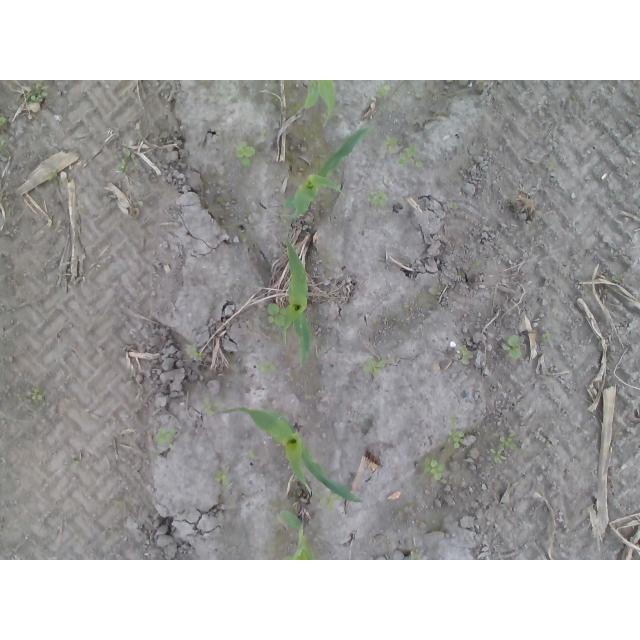Maize: (212, 405, 364, 504), (282, 123, 370, 222), (281, 233, 313, 367), (277, 505, 316, 560), (304, 80, 337, 126)
Weeds: (385, 135, 424, 168), (115, 149, 140, 176), (235, 143, 258, 169), (153, 426, 175, 450), (424, 455, 445, 479), (362, 358, 385, 379), (317, 491, 338, 514), (506, 331, 522, 361), (266, 302, 285, 327), (366, 188, 389, 208), (23, 83, 50, 100), (374, 82, 400, 99), (1, 189, 16, 218), (500, 430, 520, 451), (447, 429, 466, 449), (458, 344, 474, 365), (212, 471, 230, 489), (488, 448, 505, 465), (65, 455, 82, 472), (301, 125, 320, 140), (191, 347, 206, 364), (203, 399, 216, 417), (31, 385, 45, 401), (611, 272, 626, 284), (46, 170, 58, 185), (408, 548, 421, 561), (541, 328, 552, 342), (256, 363, 272, 372), (133, 199, 146, 210), (2, 229, 17, 238), (246, 450, 259, 460), (0, 115, 8, 130), (546, 159, 555, 170), (446, 202, 458, 210), (575, 279, 583, 289), (0, 138, 8, 147)
